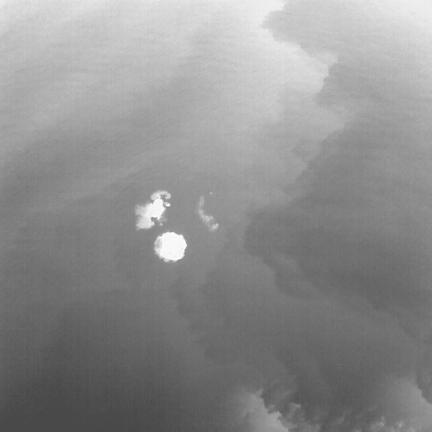flukeprints: (157, 232, 186, 261), (146, 192, 169, 222)
